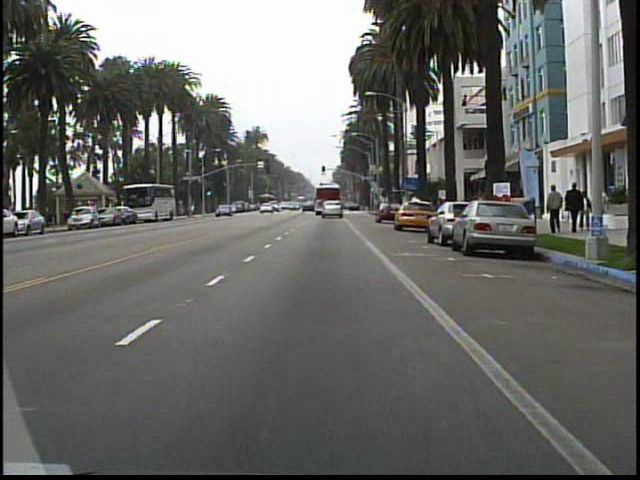person: (563, 177, 585, 234), (546, 183, 564, 237), (593, 181, 610, 231)
